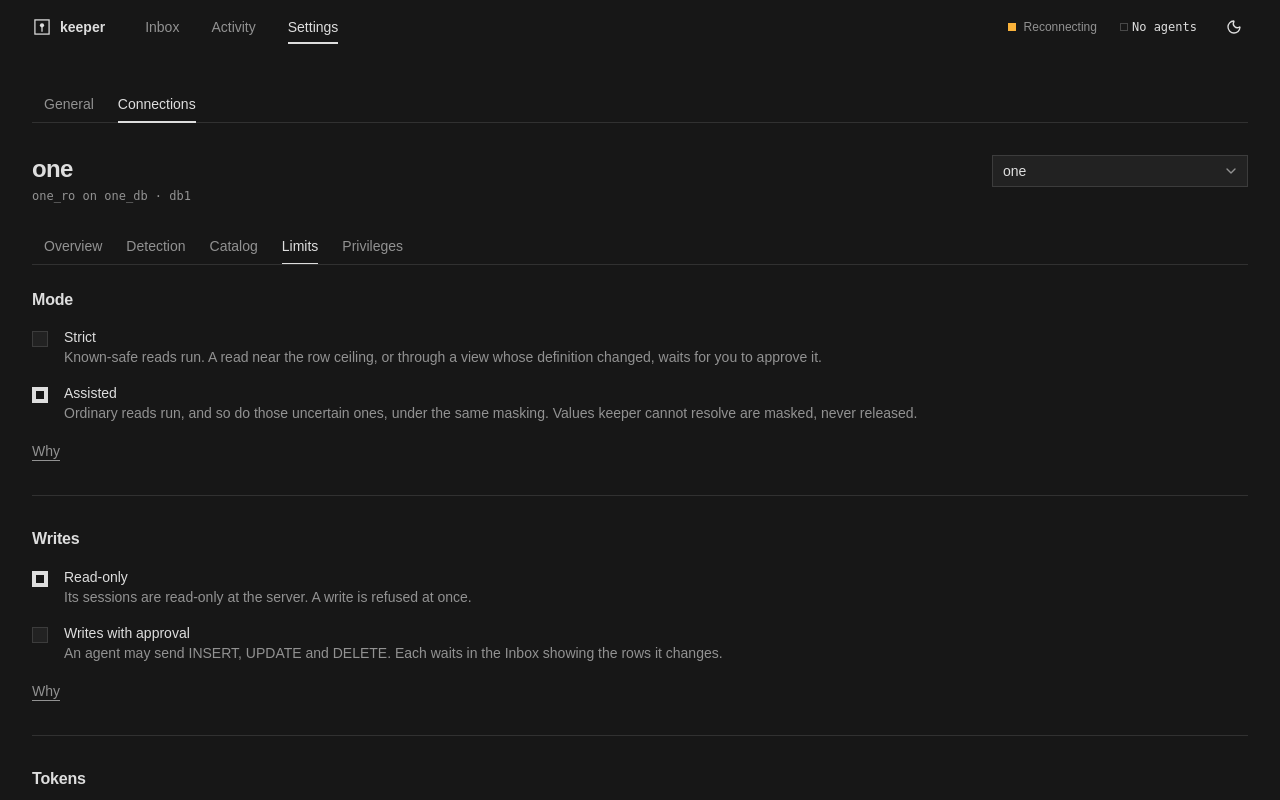
it: saving a connection setting › POL-C11 a refused save says so in its own section
The image size is (1280, 800).
What coordinates should you click on to do the following:
click the radio button named "strict" next to "Strict"
I would click on:
 (40, 339)
Its box is [32,331,48,347].
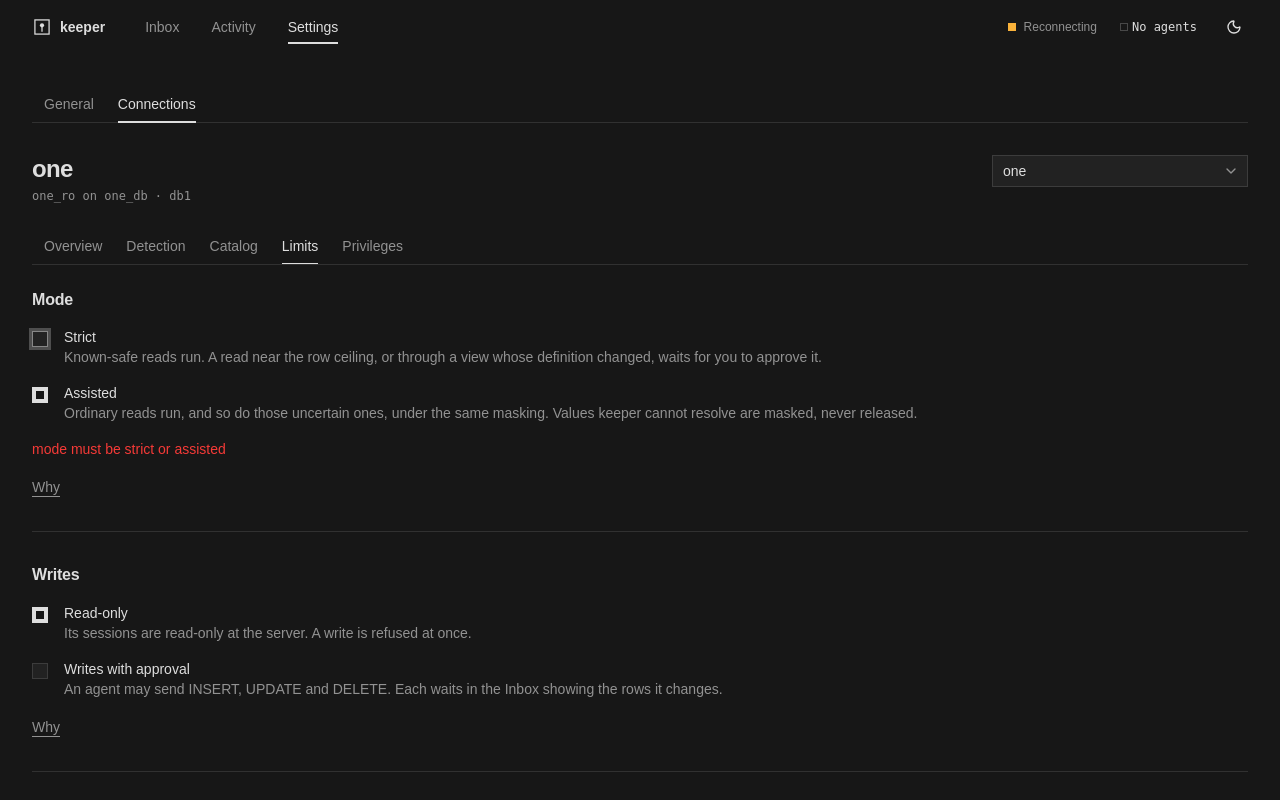
Expected: the message reads "mode must be strict or assisted", [32,441,226,457]
